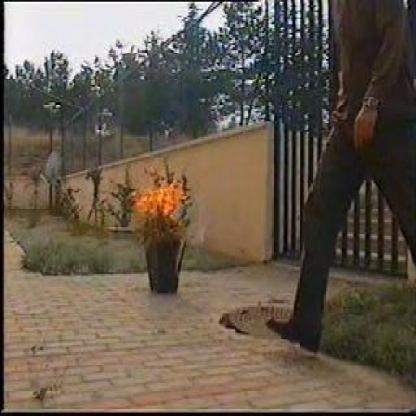foggia-v2-map80-epoch100 - v1 4323: (130, 176, 182, 219)
